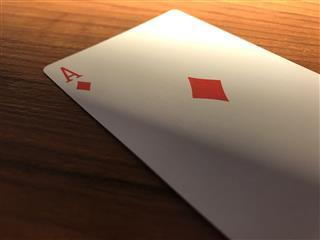AceOfDiamonds: (42, 8, 320, 240)
